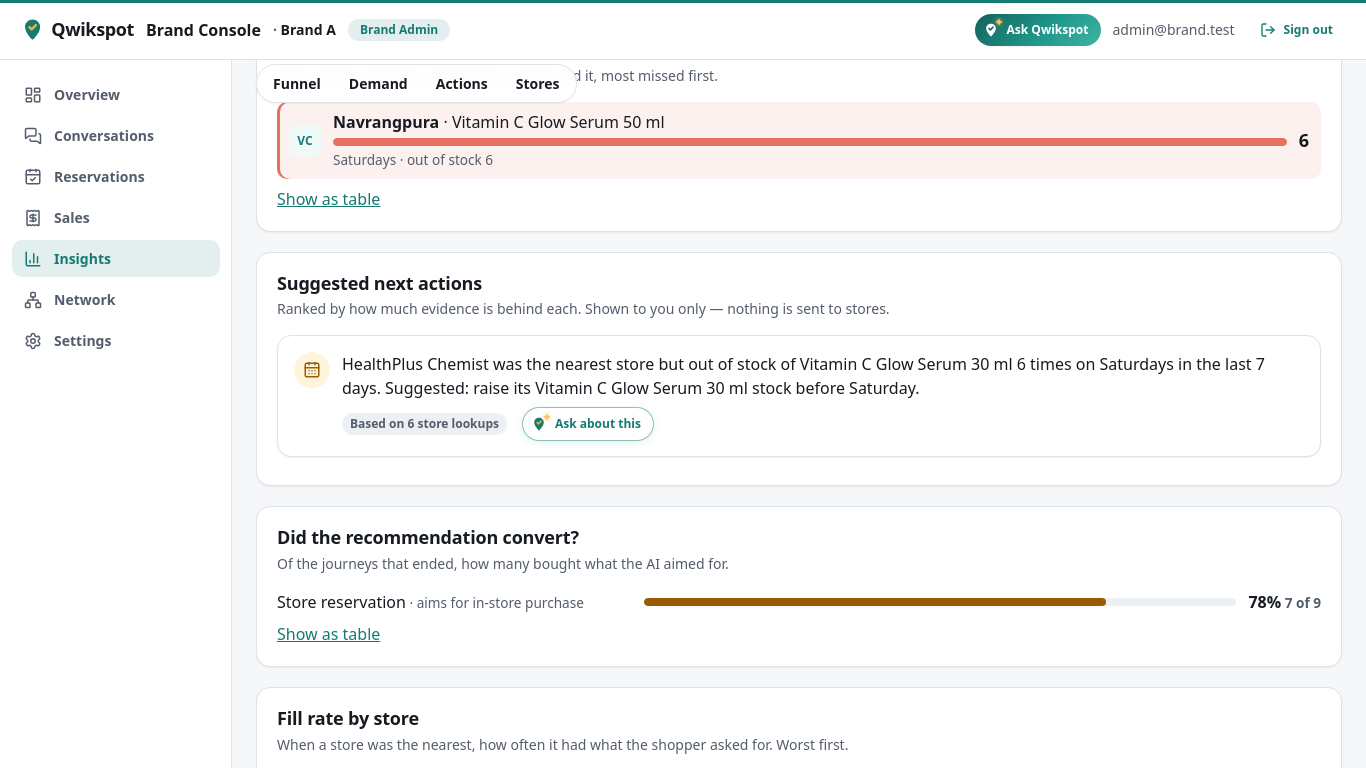
it: the AI pieces on the pages › Insights: "Ask about this" on a suggestion asks about that suggestion, on the Insights page
This screenshot has width=1366, height=768.
(page scrolled)
Click the button with aria-label "Ask Qwikspot about: HealthPlus Chemist was the nearest store" at (588, 424), box 523,408 -> 653,440
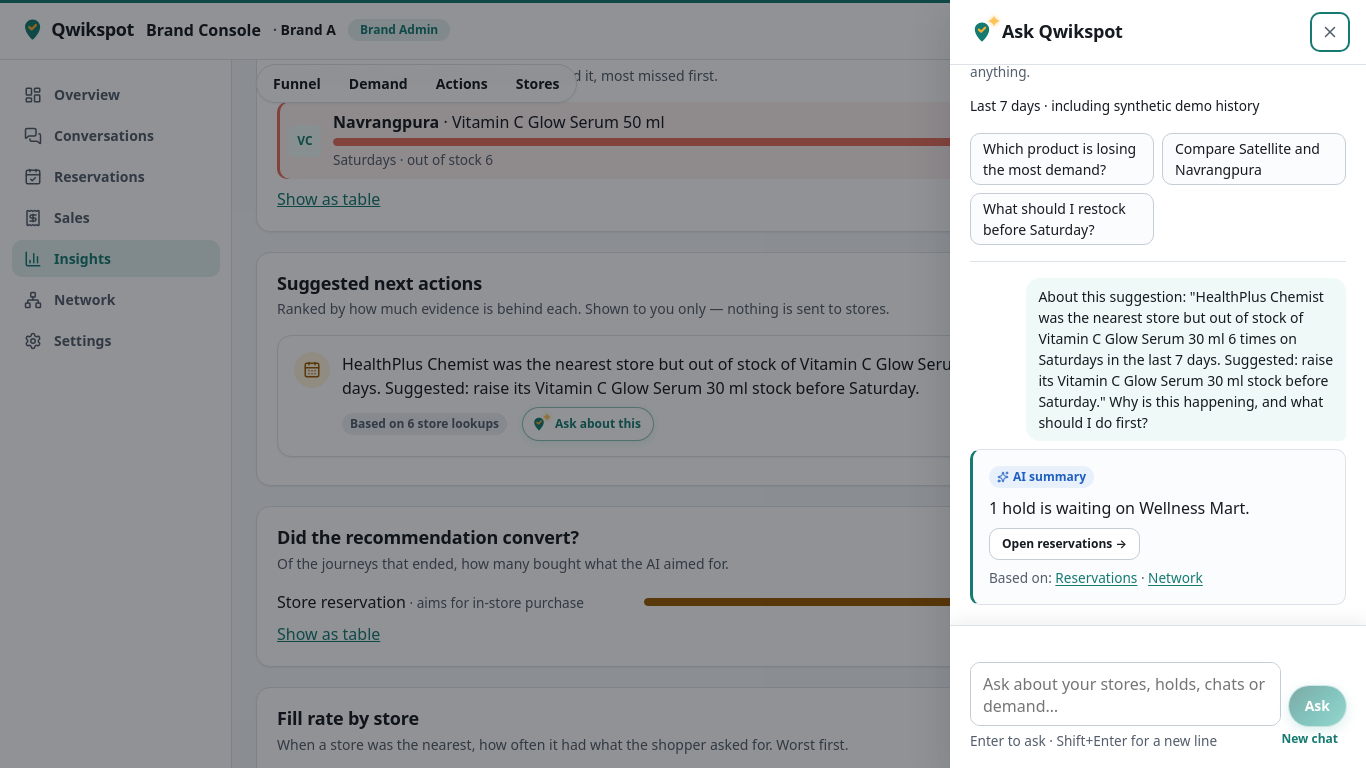
Expected: the dialog "Ask Qwikspot" is shown, 950,0 -> 1365,767
